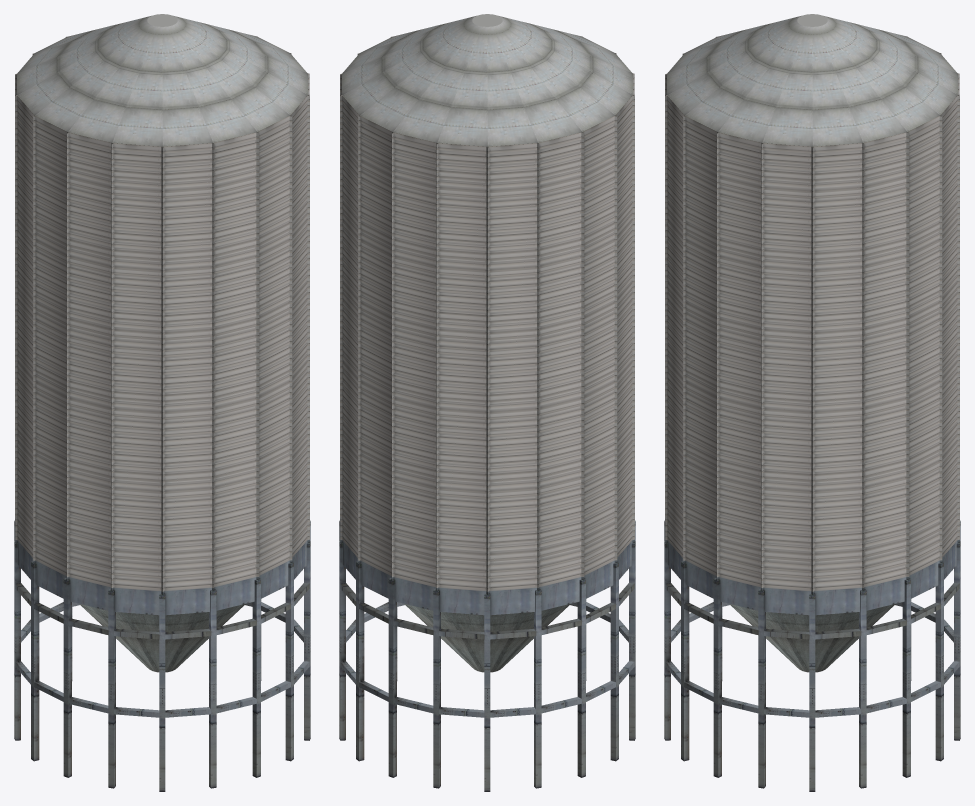
The model's file is Silo.fbx.
The picture shows the model from 3 angles, left to right: view 1: azimuth 30°, elevation 25°; view 2: azimuth 150°, elevation 25°; view 3: azimuth 270°, elevation 25°; orthographic projection.
Visible parts, largest first — view 1: Silo; view 2: Silo; view 3: Silo.
Boxes of the visible parts, left/top/right/bottom form: Silo: left=14, top=14, right=310, bottom=791; Silo: left=339, top=14, right=635, bottom=791; Silo: left=664, top=14, right=960, bottom=791.
Size of the model in its own units: 129 by 335 by 127.
